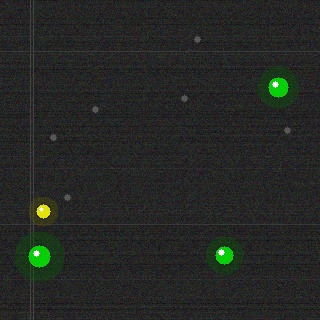green_normal: (26, 243, 52, 269), (266, 75, 290, 99), (213, 244, 235, 266)
yellow_warning: (34, 202, 52, 220)
